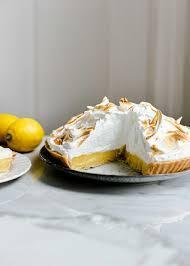lemon: (5, 117, 44, 152), (0, 114, 18, 142)
